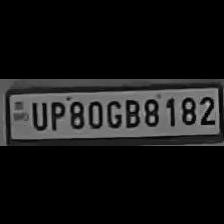0: (86, 96, 104, 128)
1: (161, 93, 177, 126)
2: (197, 92, 217, 124)
8: (65, 96, 85, 130), (141, 94, 161, 128), (178, 92, 196, 125)
B: (121, 95, 141, 127)
G: (105, 95, 123, 127)
P: (46, 97, 66, 130)
U: (28, 97, 48, 129)
